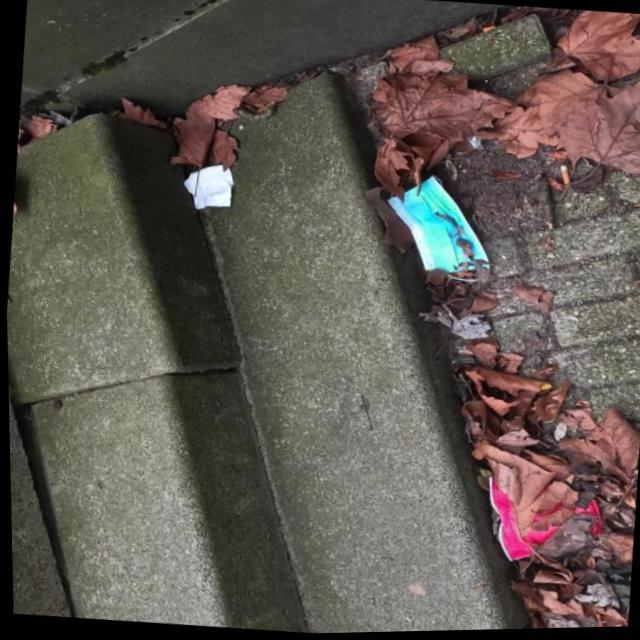Cup: (477, 472, 608, 573)
Mask: (377, 169, 502, 287)
Paper: (176, 160, 235, 214)
